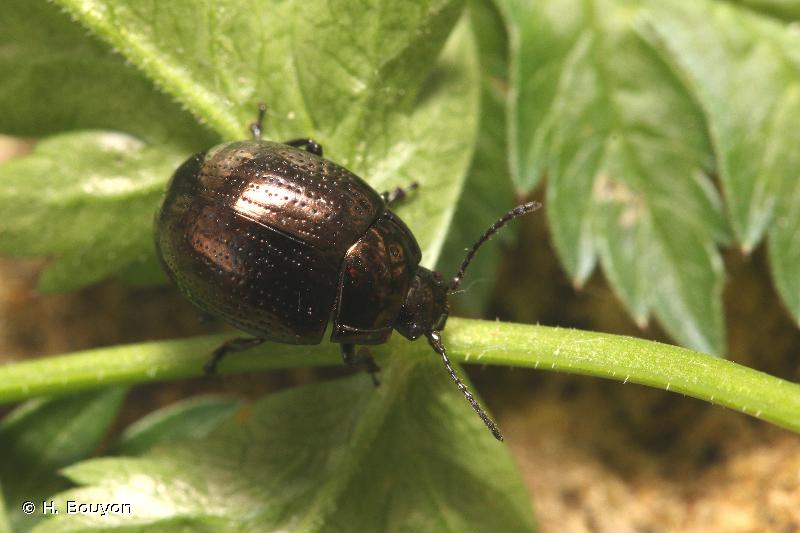Chrysolina_oricalcia: (148, 94, 549, 446)
